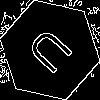U: (25, 25, 82, 83)
